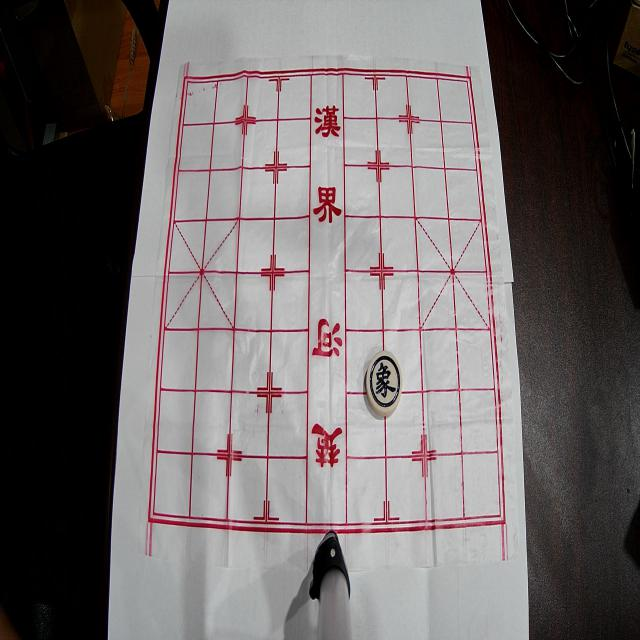black-elephant: (366, 351, 402, 417)
